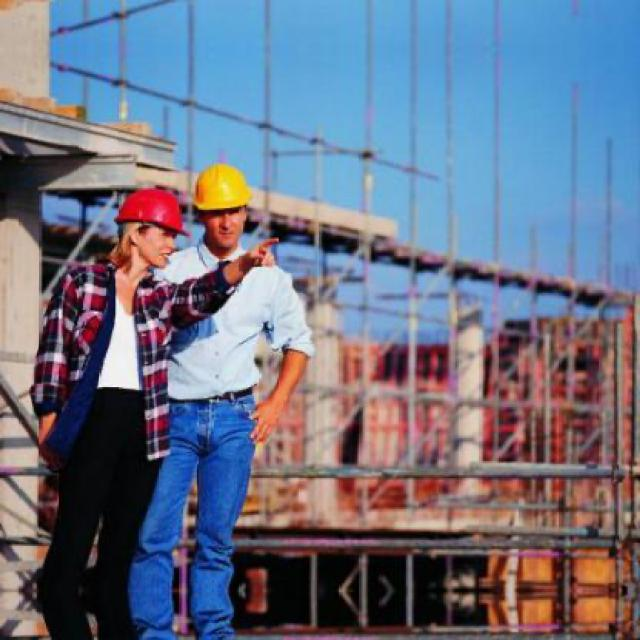helmet: (111, 183, 194, 274), (186, 156, 259, 256)
